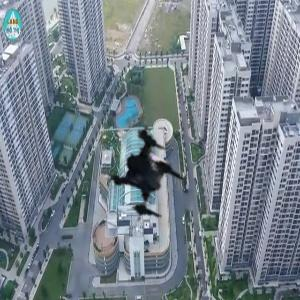drone: (65, 100, 203, 238)
